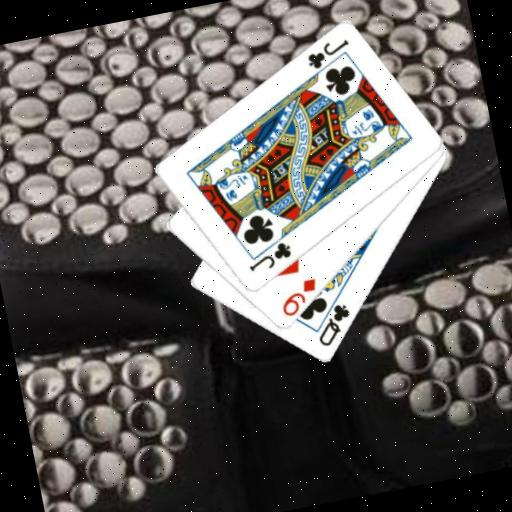9D: (274, 275, 324, 321)
JC: (301, 35, 355, 73), (242, 238, 296, 275)
QC: (309, 299, 358, 351)
